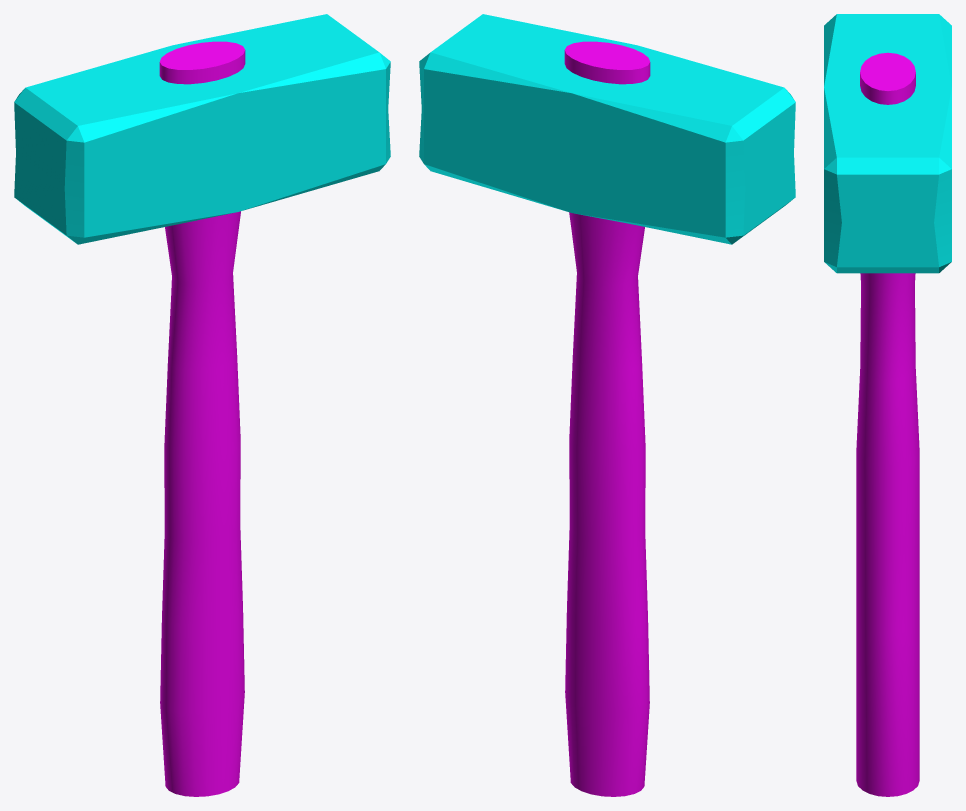
The model's file is HammerSP.obj.
The picture shows the model from 3 angles, left to right: view 1: azimuth 30°, elevation 25°; view 2: azimuth 150°, elevation 25°; view 3: azimuth 270°, elevation 25°; orthographic projection. The views are drawn at different scales.
Visible parts, largest first — view 1: pasted__pCube1; view 2: pasted__pCube1; view 3: pasted__pCube1.
Part boxes in pixels (x1=…): pasted__pCube1: x1=14, y1=14, x2=390, y2=796; pasted__pCube1: x1=419, y1=14, x2=795, y2=796; pasted__pCube1: x1=824, y1=14, x2=951, y2=796.
Size of the model in its own units: 2.86 by 6.12 by 1.
